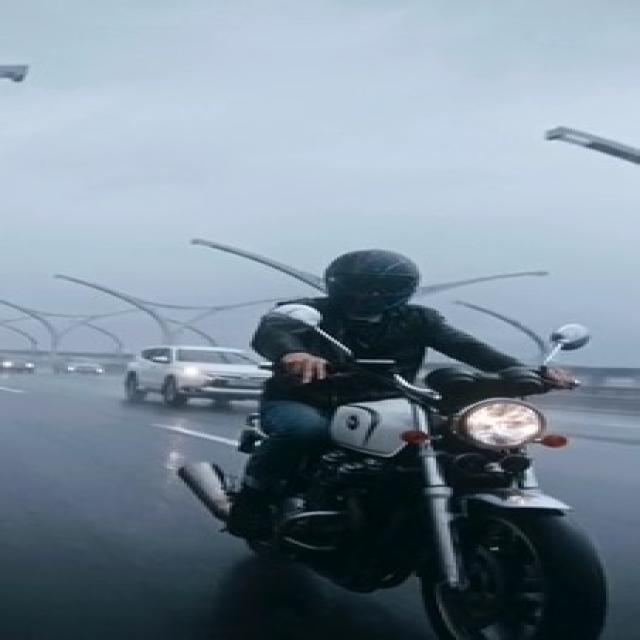Helmet_Wearer: (315, 243, 434, 319)
Jacket_Wearer: (214, 294, 531, 419)
Person: (217, 238, 537, 529)
